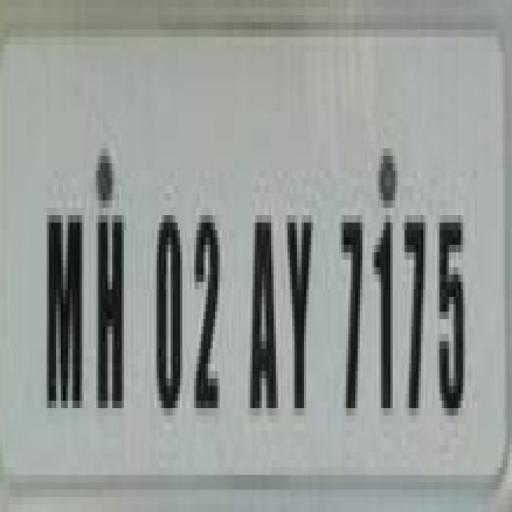number plate: (0, 37, 491, 490)
